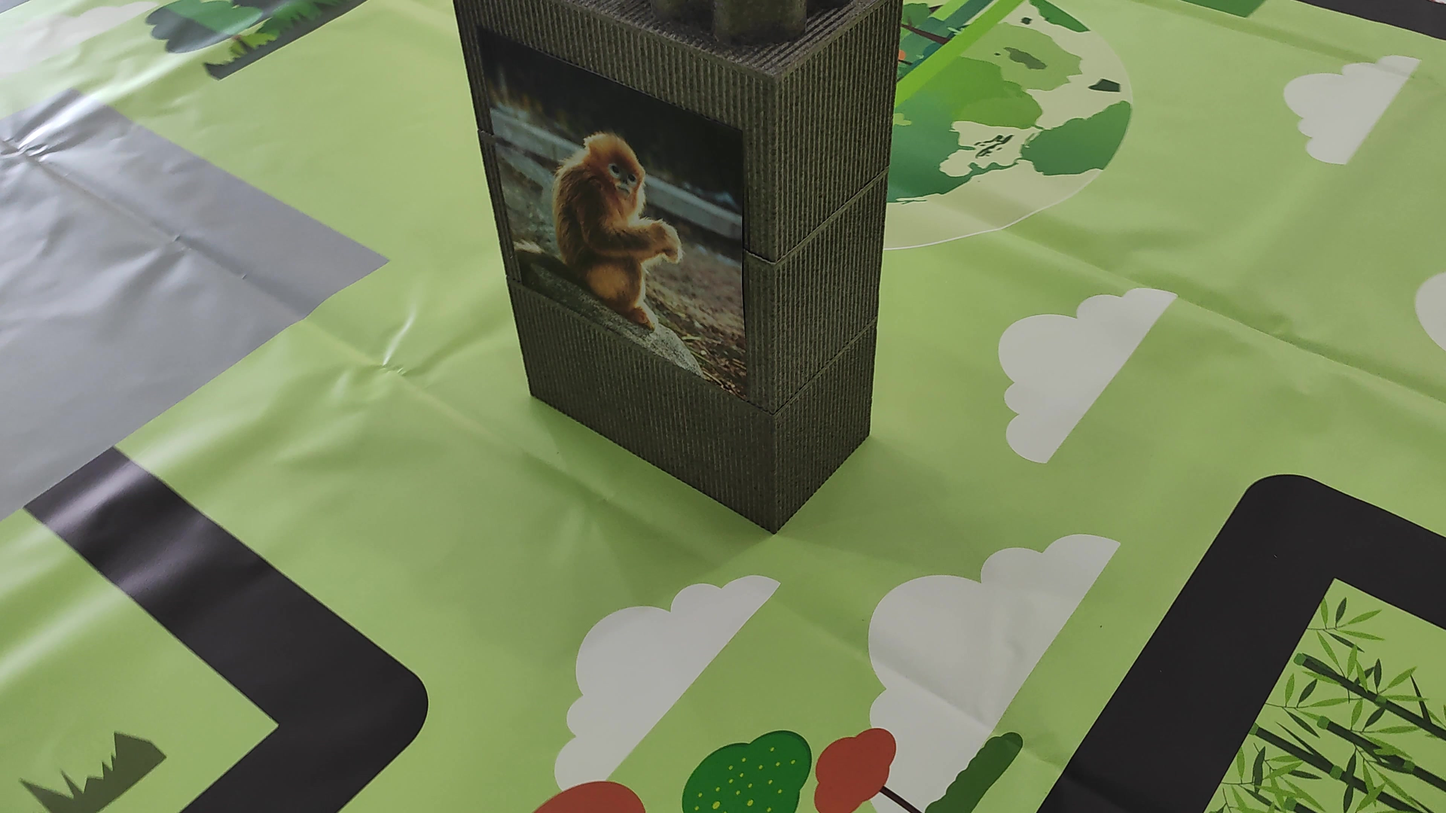monkey: (510, 82, 722, 333)
